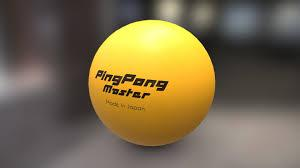oball: (86, 19, 217, 147)
